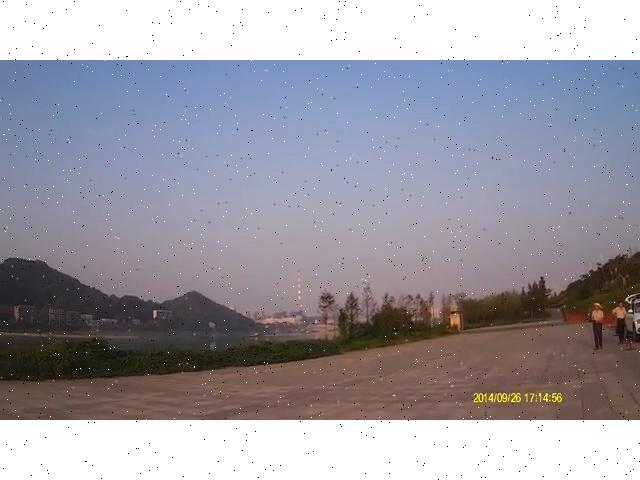Anti-Drone: (341, 151, 363, 164)
